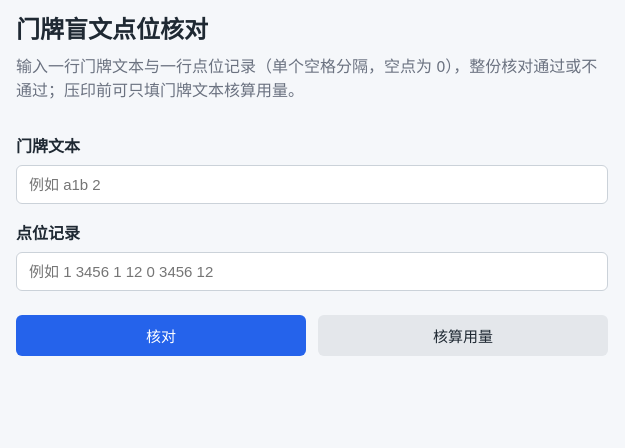
Test: App › 整份通过显示通过
The image size is (625, 448).
Type "a1b 2" into the field with test id "text-input" at (312, 184), box [16,165,608,204]
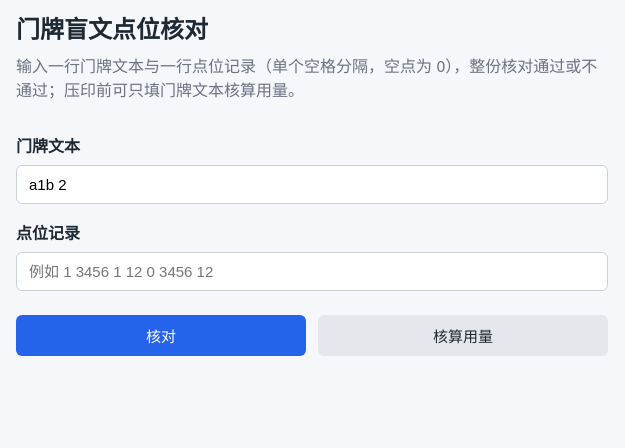
Type "1 3456 1 12 0 3456 12" into the field with test id "cells-input" at (312, 272), box [16,252,608,291]
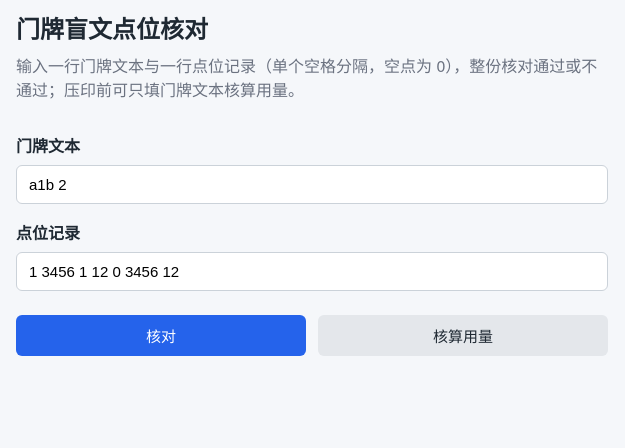
Submit the form from the button with test id "submit", box [16,315,306,356]
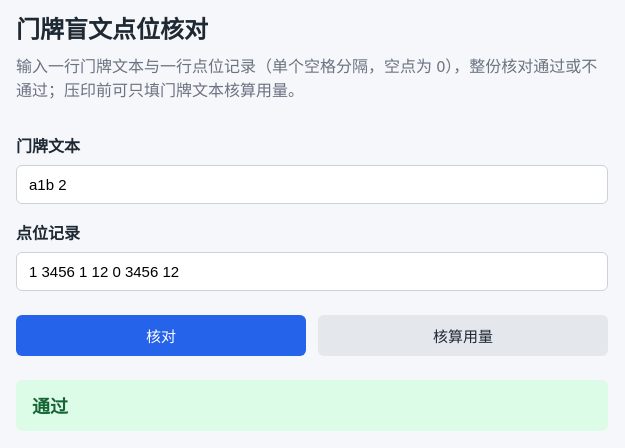
expect the message with test id "verdict" reads "通过": met, box [32,393,68,419]
